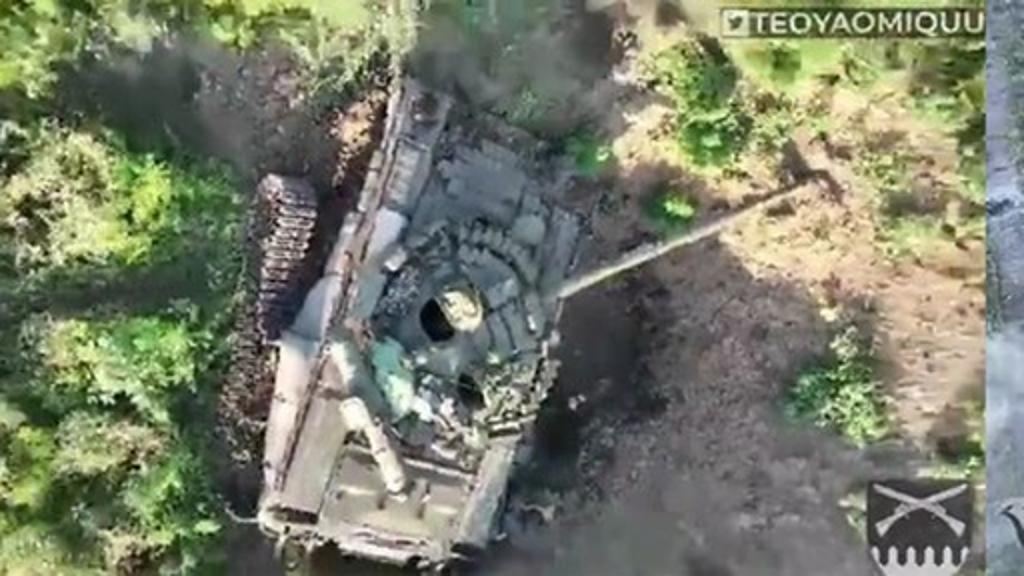TANK: (246, 42, 822, 570)
